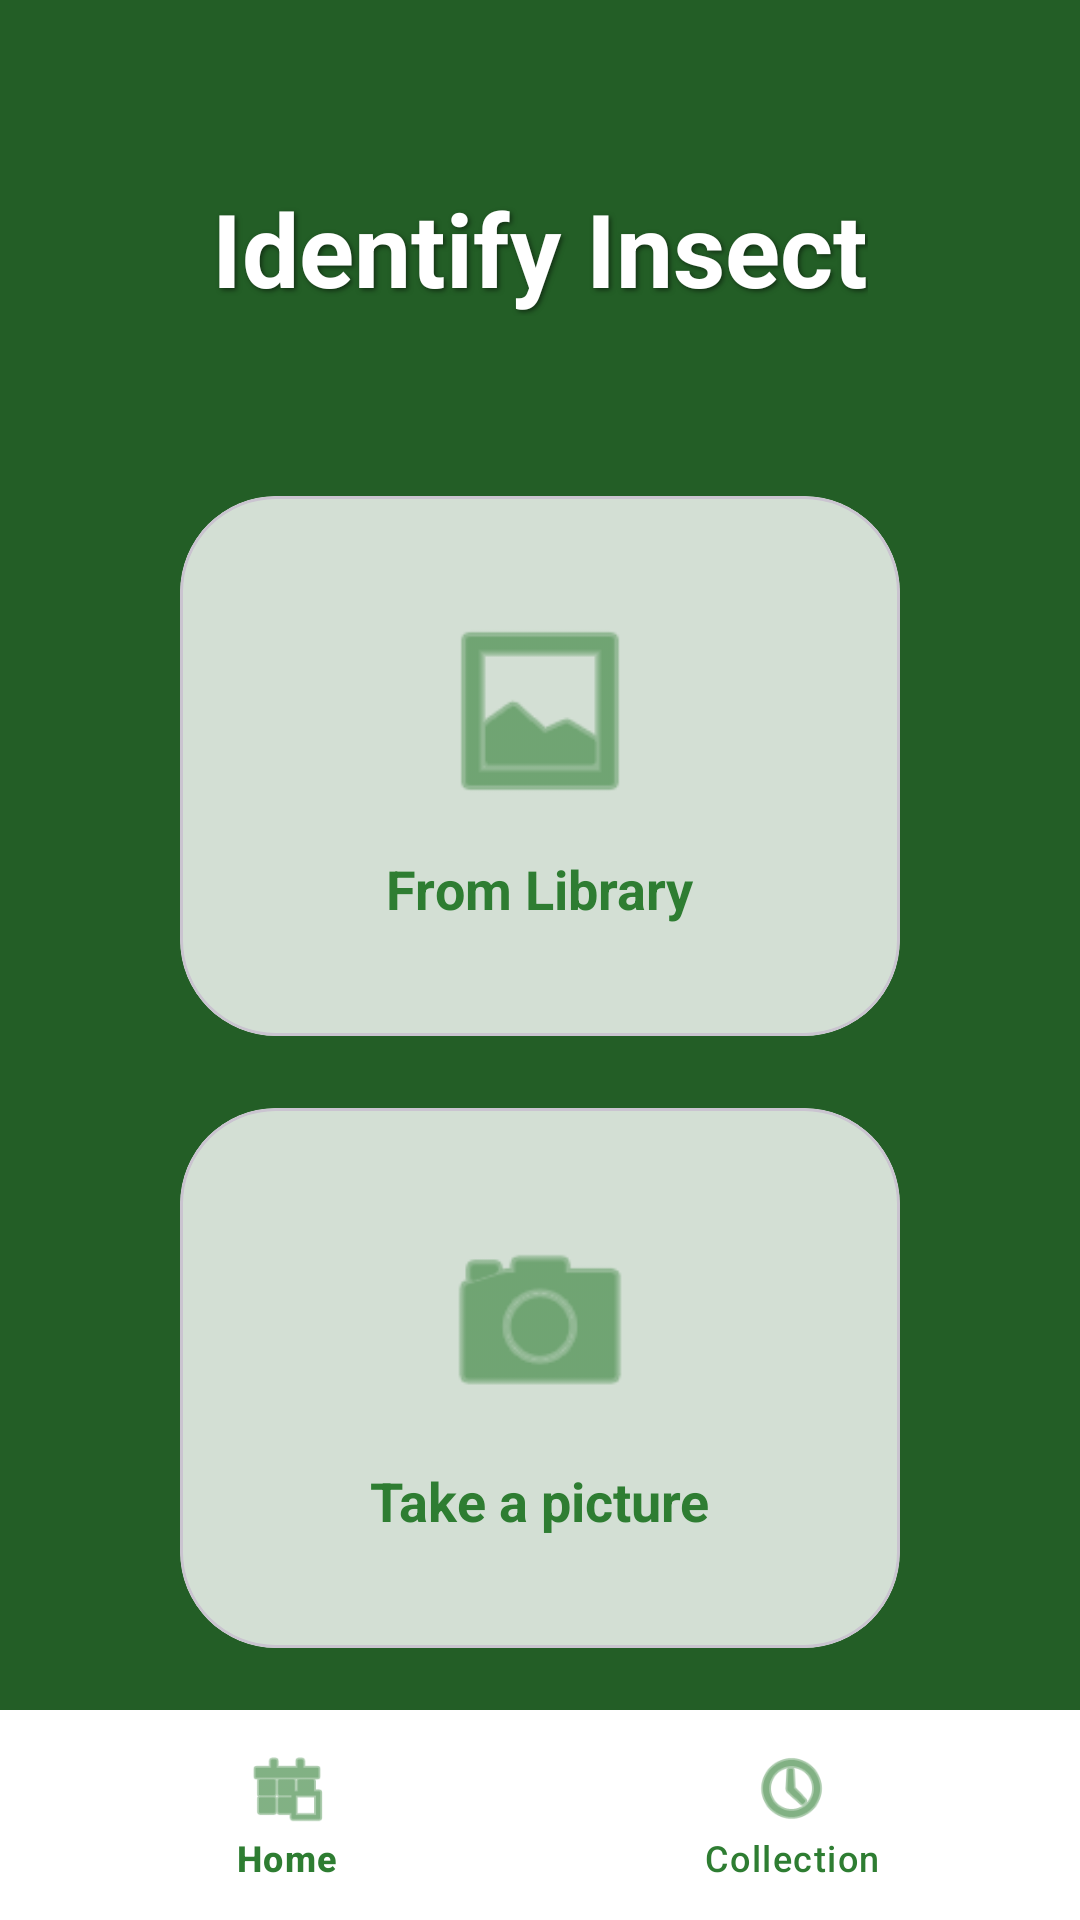

Where icons sit on this 1080px x 1920px app screen, as (x1, y1, x2, y2):
camera: (459, 1255, 621, 1384)
gallery: (461, 632, 619, 790)
